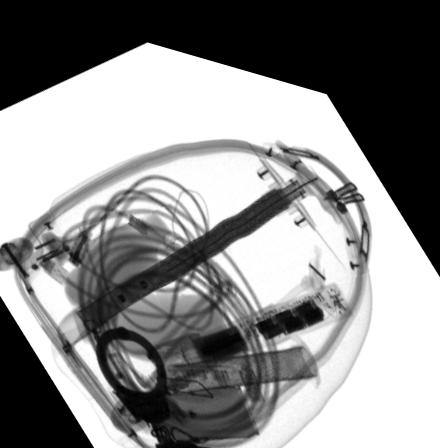Baton: (185, 263, 353, 356)
HandCuffs: (93, 318, 222, 448)
